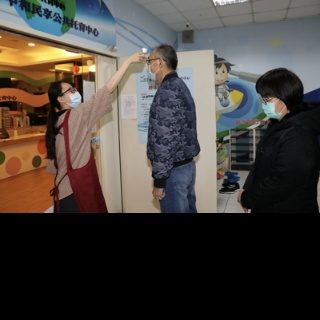with_mask: (260, 97, 283, 121), (64, 87, 83, 110), (145, 55, 159, 80)
